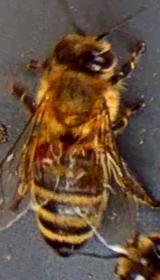varroa_mite: (24, 135, 72, 175)
